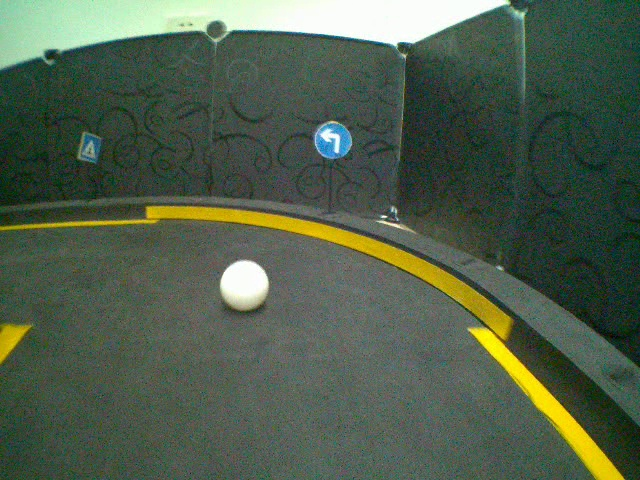ball: (219, 259, 271, 313)
